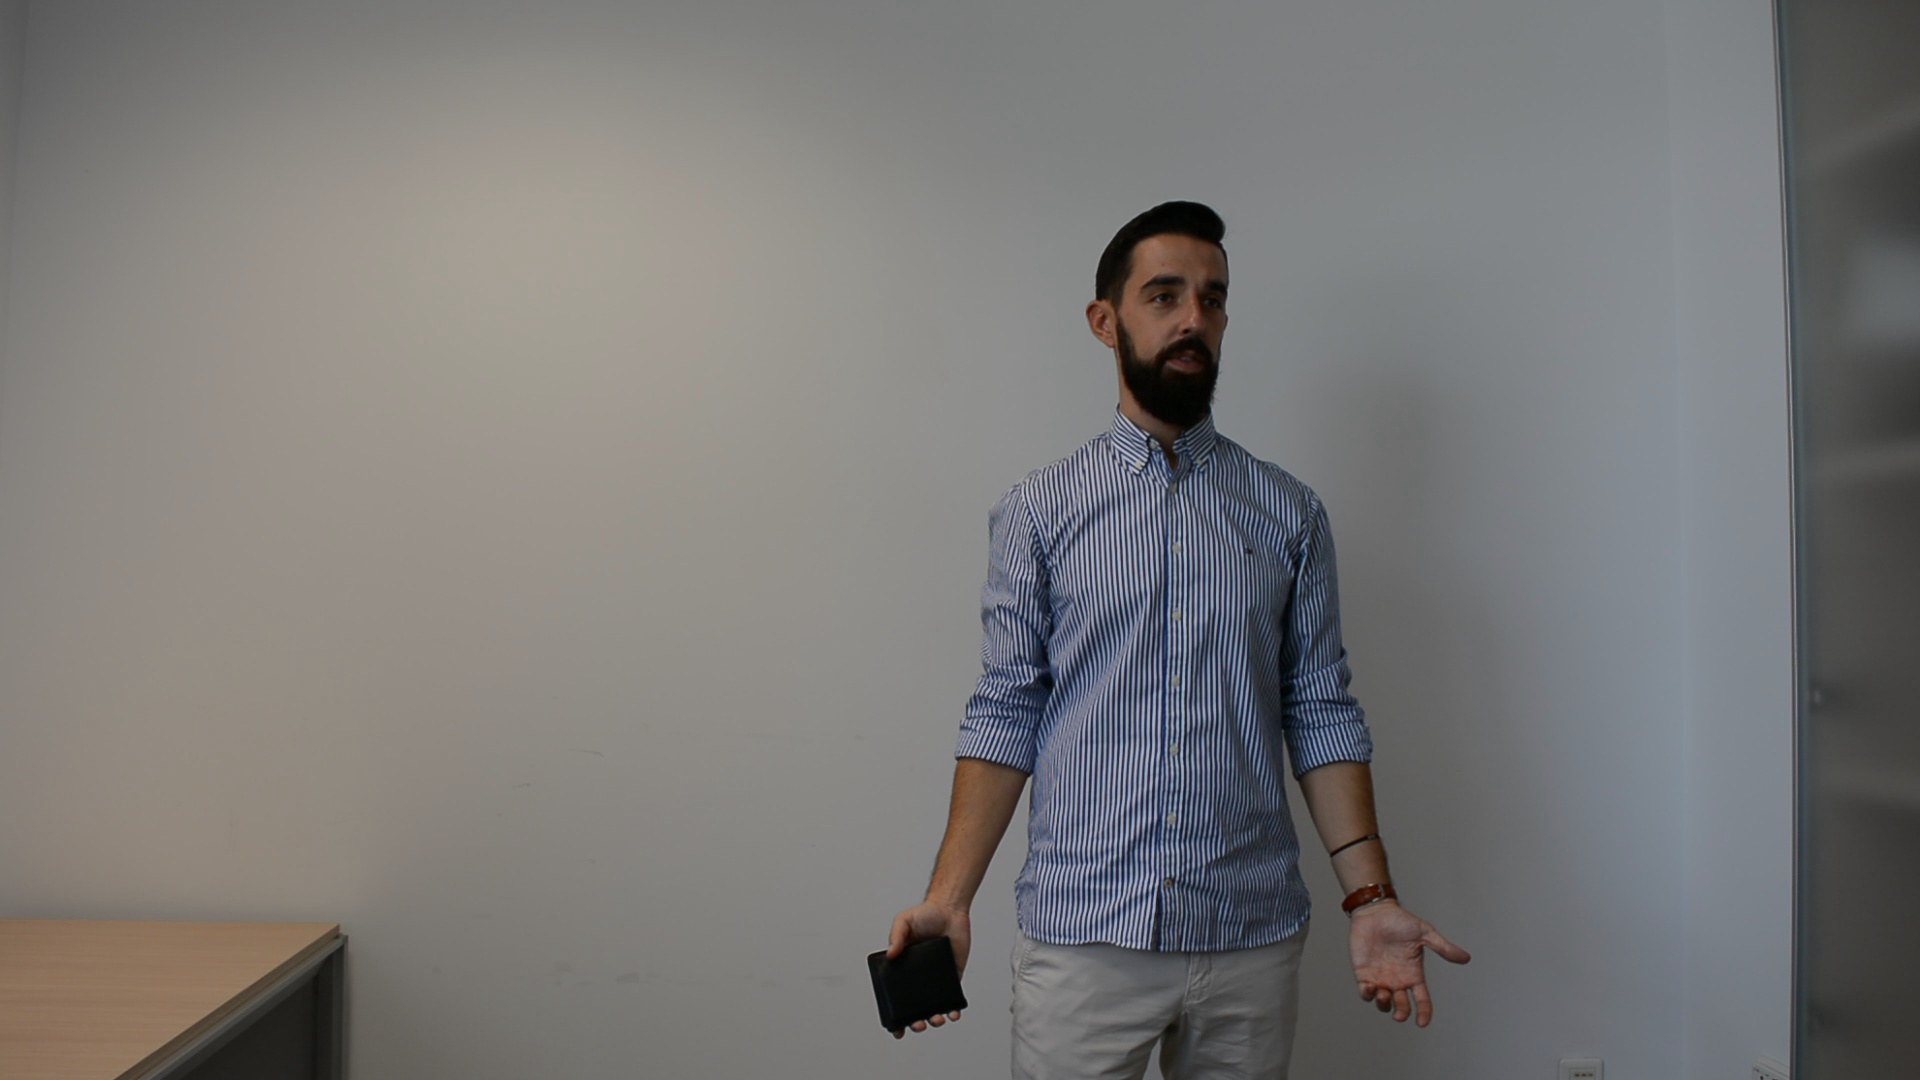monedero: (864, 930, 971, 1035)
